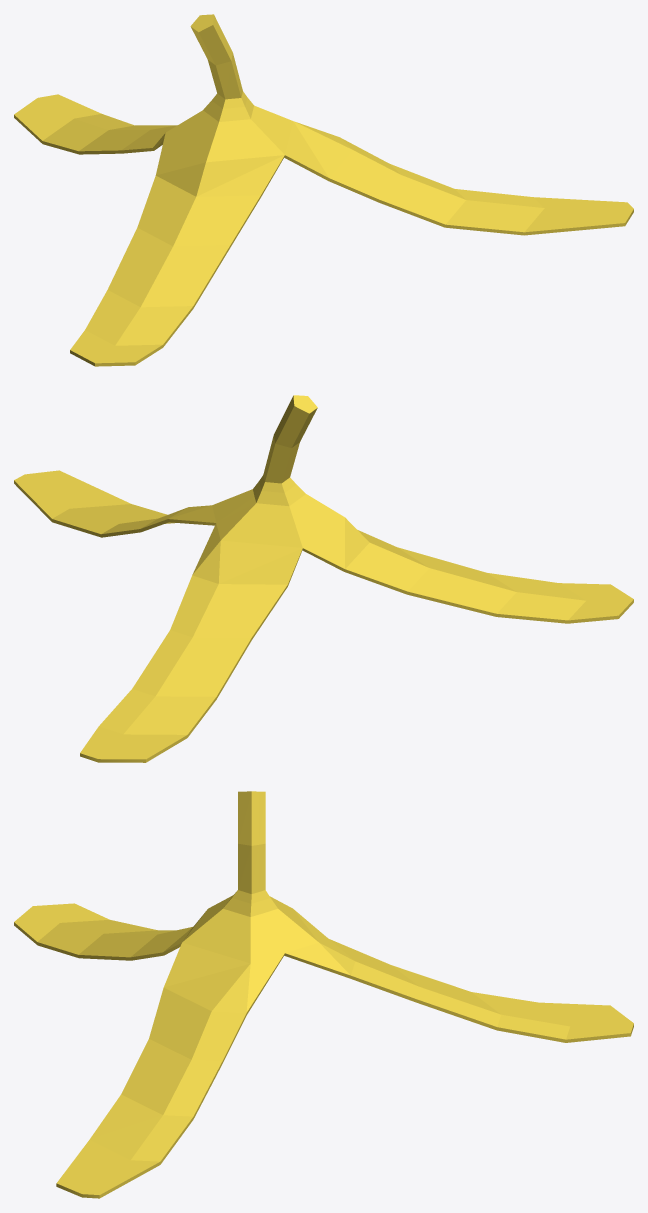
The model's file is Kulit Pisang.fbx.
3 views of the same model, one above another, from view 1: azimuth 30°, elevation 25°; view 2: azimuth 150°, elevation 25°; view 3: azimuth 270°, elevation 25° (orthographic). The views are drawn at different scales.
Visible parts, largest first — view 1: Cylinder004; view 2: Cylinder004; view 3: Cylinder004.
Part boxes in pixels (x1,y1,x2,y2): Cylinder004: (14, 14, 633, 366); Cylinder004: (14, 395, 633, 762); Cylinder004: (14, 791, 633, 1198).
Bounding box in the file's own units: 150 × 55.71 × 135.
